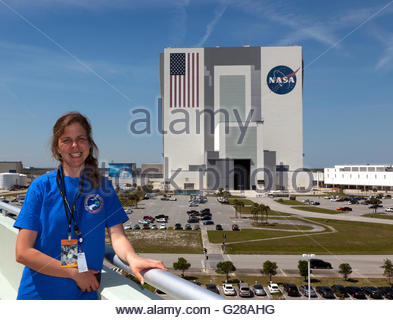NASA: (260, 63, 301, 98)
